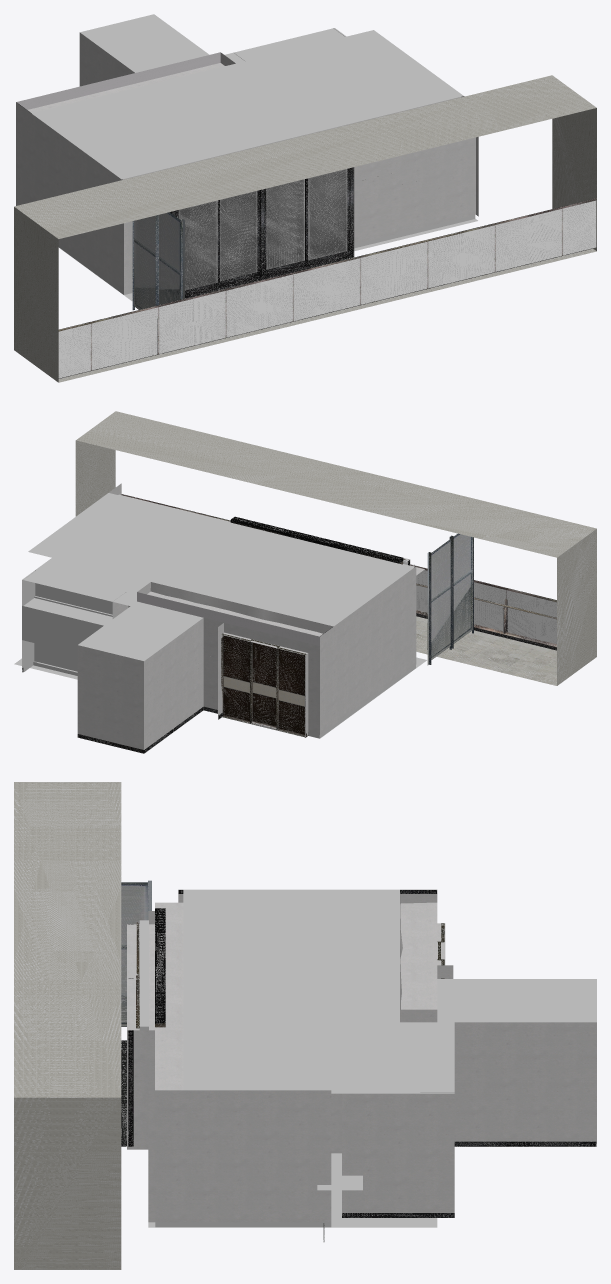
The picture shows the model from 3 angles, top to bottom: view 1: azimuth 30°, elevation 25°; view 2: azimuth 150°, elevation 25°; view 3: azimuth 270°, elevation 25°; orthographic projection. The views are drawn at different scales.
Visible parts, largest first — view 1: skpAC81 (×23); view 2: skpAC81 (×22); view 3: skpAC81 (×19).
Boxes of the visible parts, box(x1,y1,x2,y2) form: skpAC81 (×23): box(14, 14, 596, 382); skpAC81 (×22): box(14, 411, 596, 752); skpAC81 (×19): box(14, 782, 596, 1269).
Bounding box in the file's own units: 7349 × 5740 × 1874.
